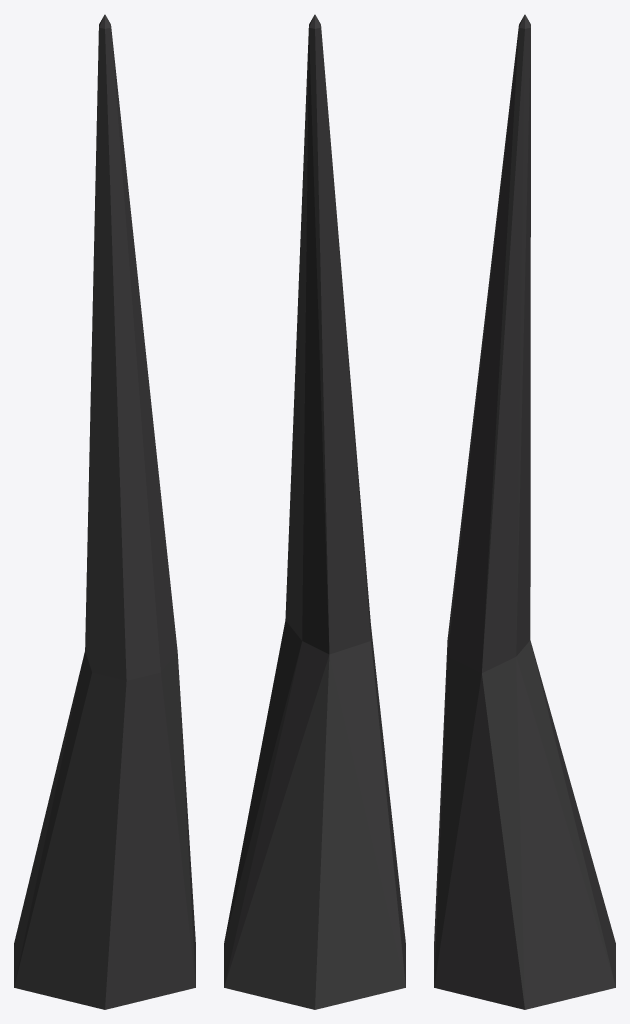
File: Stal_1D.fbx
3 views of the same model, side by side, from view 1: azimuth 30°, elevation 25°; view 2: azimuth 150°, elevation 25°; view 3: azimuth 270°, elevation 25° (orthographic).
Visible parts, largest first — view 1: pCone42; view 2: pCone42; view 3: pCone42.
Boxes of the visible parts, box(x1,y1,x2,y2) form: pCone42: box(14, 14, 195, 1009); pCone42: box(224, 14, 405, 1009); pCone42: box(434, 14, 615, 1009).
Size of the model in its own units: 0.6 by 3 by 0.5196.
